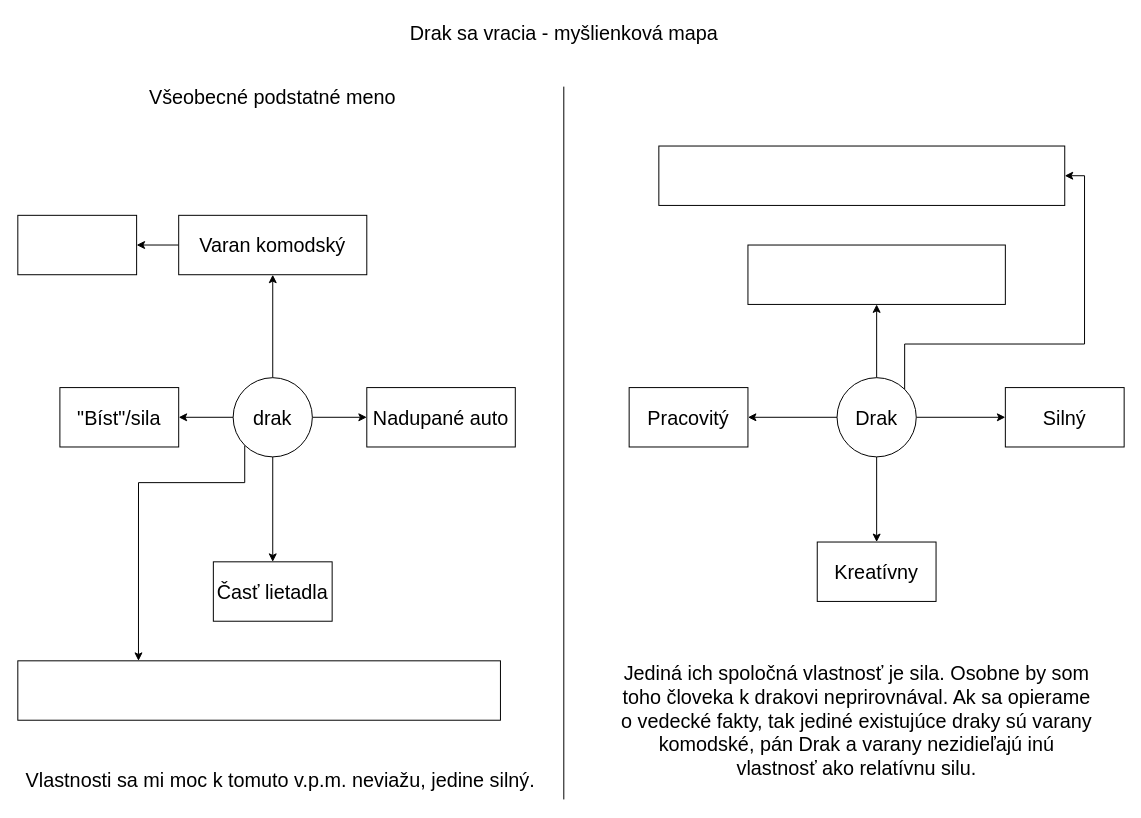
Image size: 1141x818. Some labels were removed from this diagram. The centre of each missing label's shape, as x and y in pixels:
Inteligentnejší než jeho primitívny rovesníci: [861,175]
Lenivosť: [77,244]
Pravdepodobne abstinent: [876,274]
Ropná spoločnosť, ktorej názov si nespomeniem: [258,690]
